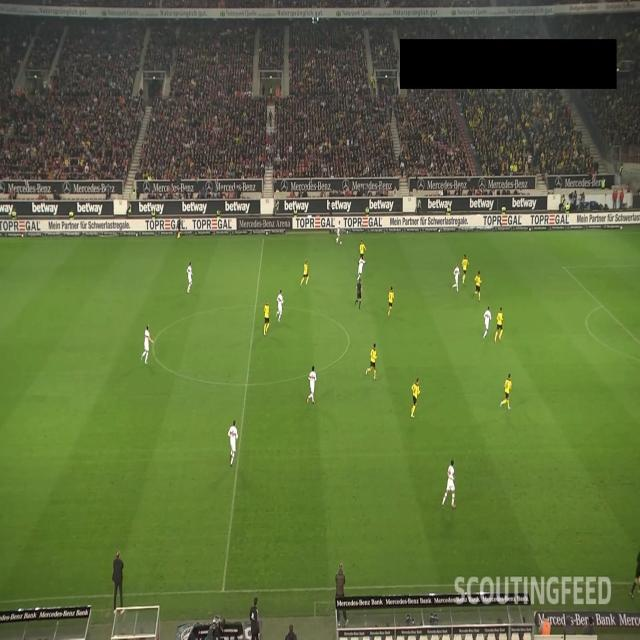ball: (340, 240, 342, 246)
